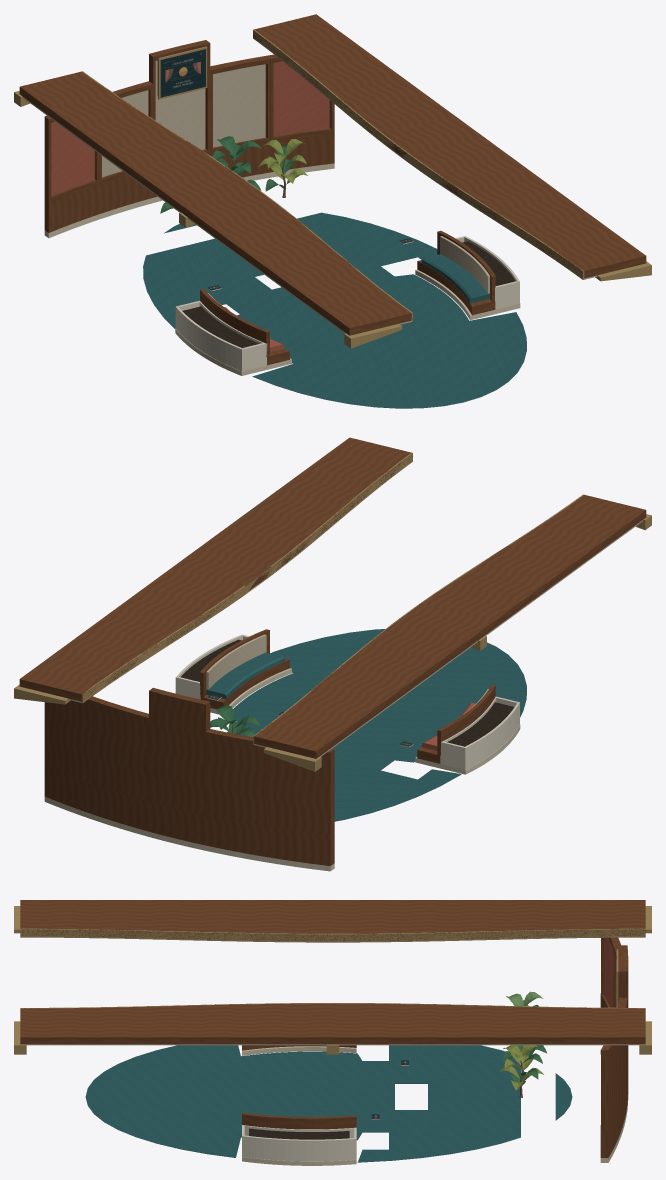
Rendered from AST-CUL-005_court_A_authored_004.glb.
3 renders of one model, top to bottom at view 1: azimuth 30°, elevation 25°; view 2: azimuth 150°, elevation 25°; view 3: azimuth 270°, elevation 25°, orthographic. The views are drawn at different scales.
Visible parts, largest first — view 1: A4_G_0006, A4_G_0000, A4_G_0117, A4_G_0114, A4_G_0115, A4_G_0105, A4_G_0108, A4_G_0106, A4_G_0118, A4_G_0027, A4_G_0109, A4_G_0032 (+31 smaller); view 2: A4_G_0027, A4_G_0028, A4_G_0006, A4_G_0114, A4_G_0117, A4_G_0000, A4_G_0115, A4_G_0105, A4_G_0108, A4_G_0106, A4_G_0118, A4_G_0109 (+20 smaller); view 3: A4_G_0006, A4_G_0000, A4_G_0106, A4_G_0105, A4_G_0108, A4_G_0114, A4_G_0117, A4_G_0115, A4_G_0004, A4_G_0109, A4_G_0118, A4_G_0005 (+24 smaller).
Part boxes in pixels (x1,y1,x2,y2): A4_G_0006: (275, 278, 526, 389); A4_G_0000: (143, 255, 304, 340); A4_G_0117: (418, 135, 563, 221); A4_G_0114: (331, 84, 480, 162); A4_G_0115: (253, 14, 411, 101); A4_G_0105: (116, 131, 270, 207); A4_G_0108: (185, 199, 347, 267); A4_G_0106: (20, 71, 169, 156); A4_G_0118: (496, 195, 646, 278); A4_G_0027: (44, 46, 181, 232); A4_G_0109: (267, 261, 412, 335); A4_G_0032: (180, 64, 265, 149); A4_G_0027: (177, 695, 334, 865); A4_G_0028: (44, 687, 180, 838); A4_G_0006: (241, 629, 465, 741); A4_G_0114: (116, 558, 271, 641); A4_G_0117: (185, 498, 347, 583); A4_G_0000: (332, 733, 461, 813); A4_G_0115: (20, 609, 182, 700); A4_G_0105: (331, 602, 480, 680); A4_G_0108: (422, 544, 563, 630); A4_G_0106: (254, 674, 412, 751); A4_G_0118: (267, 437, 412, 521); A4_G_0109: (510, 495, 645, 569); A4_G_0006: (94, 1053, 394, 1157); A4_G_0000: (279, 1045, 514, 1109); A4_G_0106: (463, 900, 645, 939); A4_G_0105: (307, 900, 488, 941); A4_G_0108: (151, 900, 332, 941); A4_G_0114: (308, 1003, 488, 1037); A4_G_0117: (151, 1003, 332, 1037); A4_G_0115: (463, 1005, 645, 1037); A4_G_0004: (356, 1110, 519, 1162); A4_G_0109: (20, 900, 176, 937); A4_G_0118: (20, 1006, 176, 1037); A4_G_0005: (428, 1060, 572, 1149).
Size of the model in its own units: 8.32 by 3.86 by 16.12.
16 materials, 14 textured.
